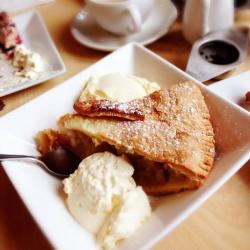apple_pie: (44, 81, 222, 194)
icecream: (53, 151, 166, 242), (76, 70, 165, 106)
